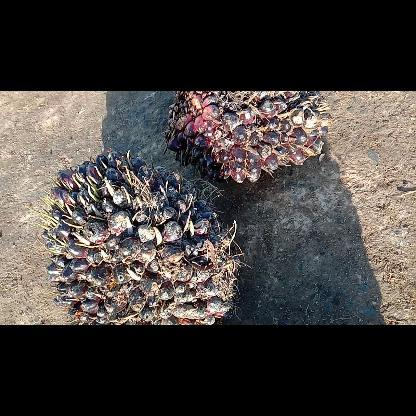TBS mentah: (35, 148, 246, 324), (160, 90, 334, 188)
